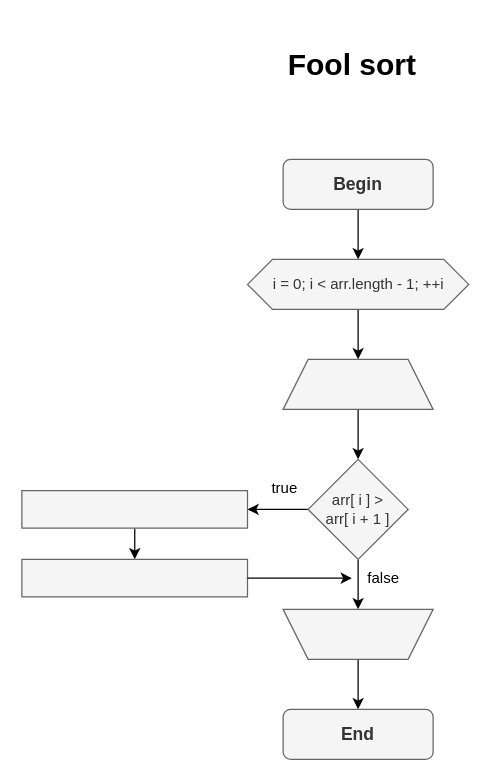
This 491x784 diagram has some shape labels left out. The shapes that lost their labels are listed below. From the top down, each one's centre as x and y in pixels, then its label:
At (x=134, y=508): "swap arr[ i ] and arr[ i + 1 ]".
At (x=134, y=577): "i = -1".
